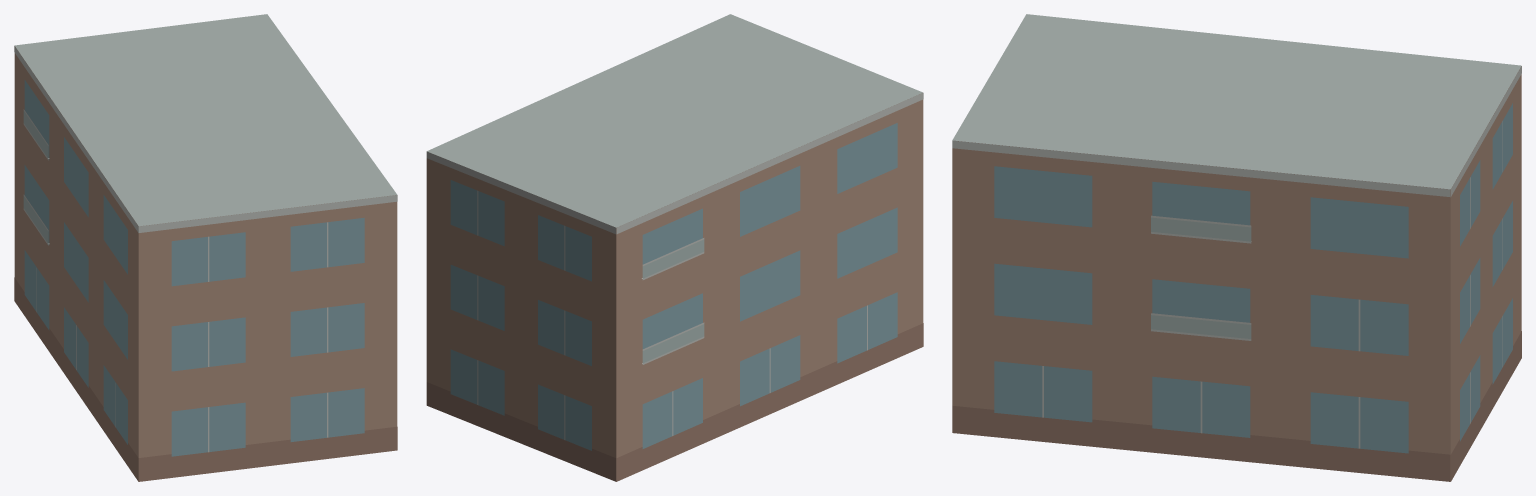
Rendered from survey-upis-32994485.glb.
3 renders of one model, left to right at view 1: azimuth 30°, elevation 25°; view 2: azimuth 150°, elevation 25°; view 3: azimuth 270°, elevation 25°, orthographic. The views are drawn at different scales.
Parts seen in each view (by area): view 1: survey-upis-32994485.tmp; view 2: survey-upis-32994485.tmp; view 3: survey-upis-32994485.tmp.
Boxes of the visible parts, bbox=[...] form: survey-upis-32994485.tmp: bbox=[14, 14, 397, 481]; survey-upis-32994485.tmp: bbox=[426, 14, 923, 481]; survey-upis-32994485.tmp: bbox=[952, 14, 1521, 481].
Size of the model in its own units: 11.78 by 9.15 by 16.16.
